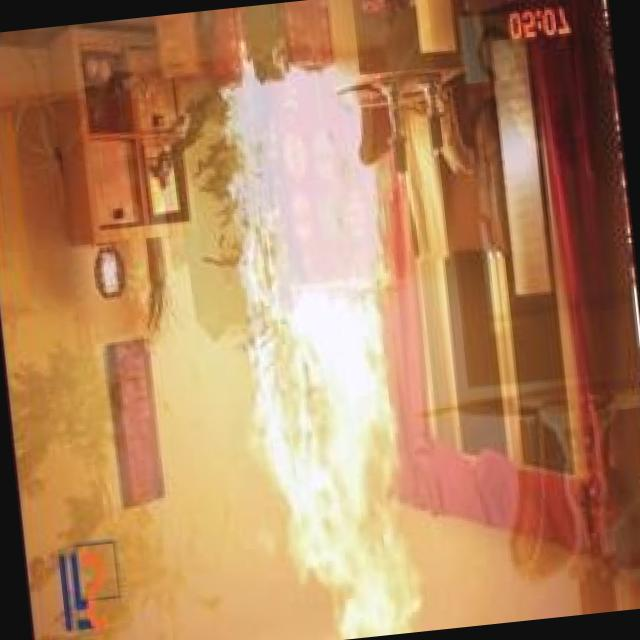fire: (178, 63, 448, 640)
